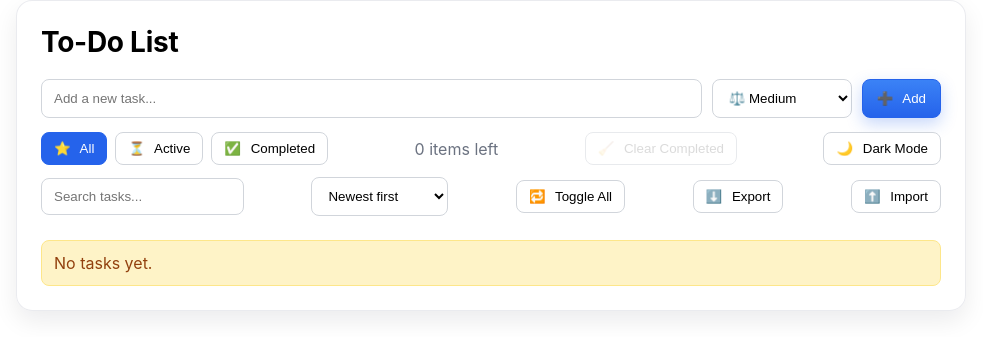
Test: edit a task inline
Type "Edit me" into the field with placeholder "Add a new task...". click: (371, 98)
box: 41,79 -> 702,118
Then press Enter
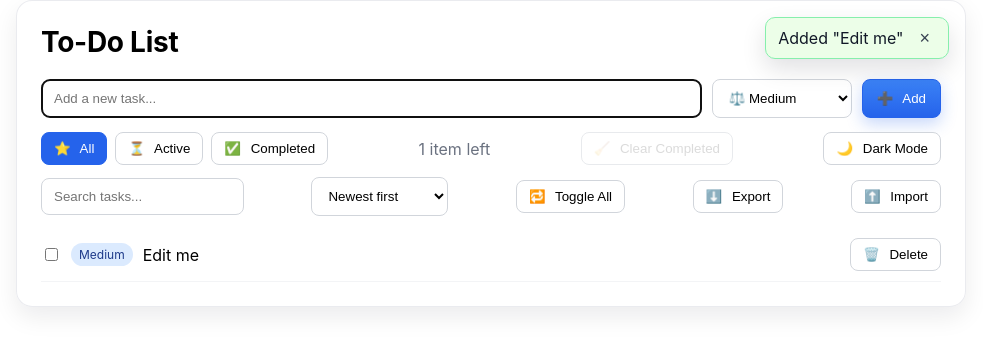
Double-click the text "Edit me" at (171, 254), box 143,244 -> 199,264
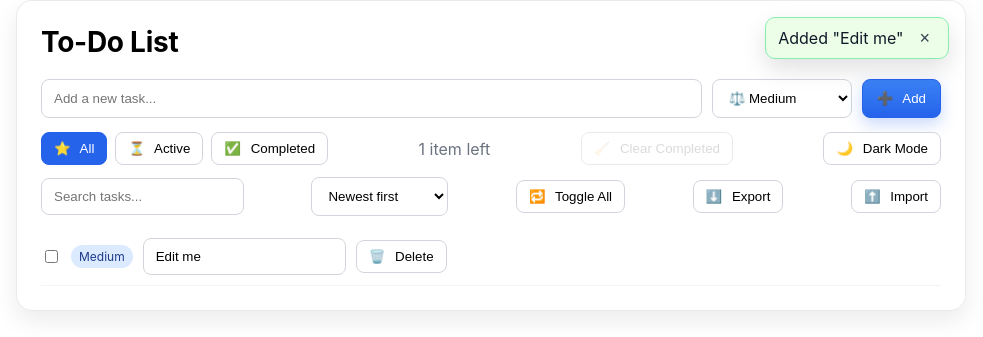
Replace the text in the field showing "Edit me" with "Edited". click: (244, 256)
box: 143,238 -> 346,275
Then press Enter
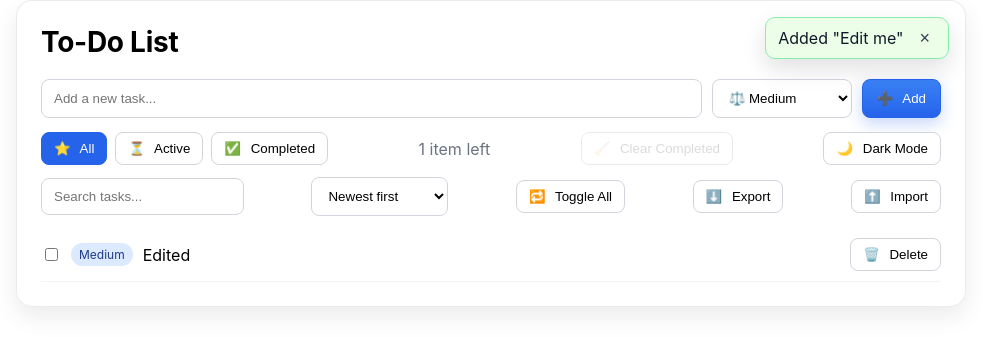
Result: the text "Edited" is shown at 143,244 -> 190,264
